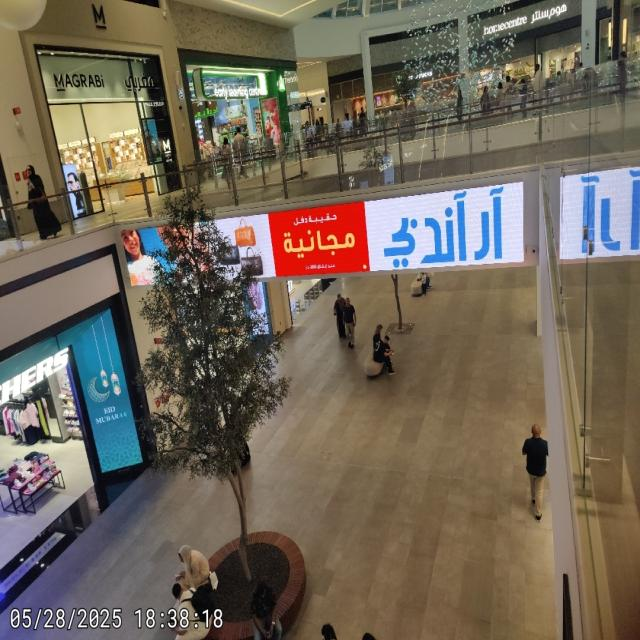rectangle-wide-board: (122, 180, 525, 288)
